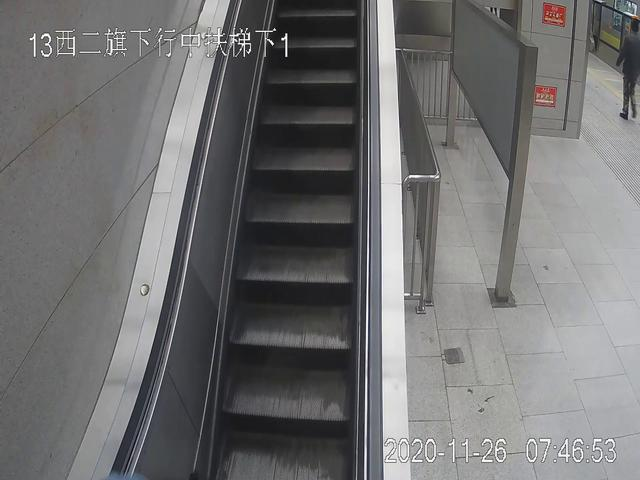person: (616, 17, 640, 121)
